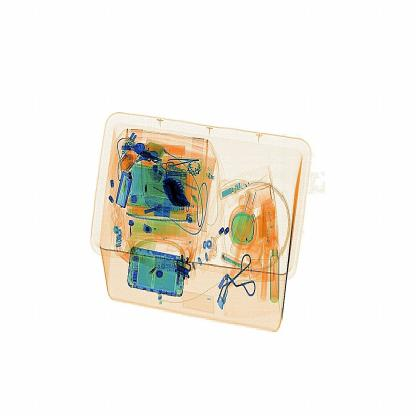scissors: (152, 173, 202, 221)
